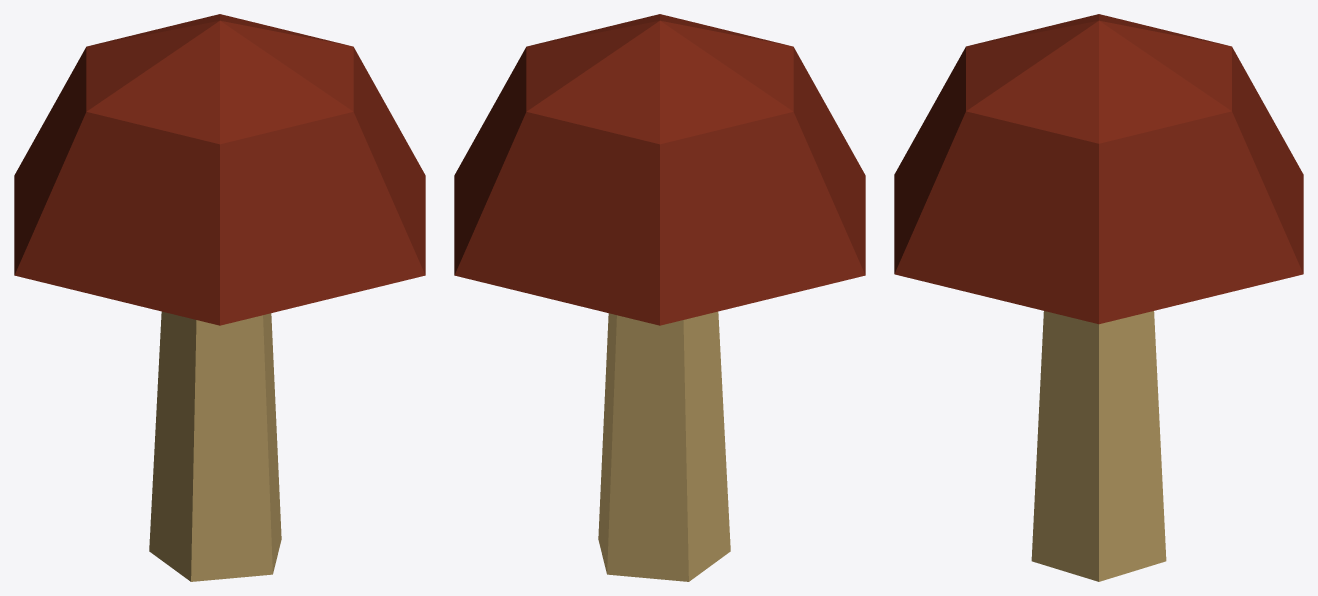
Rendered from Mushroom_Large_01.fbx.
3 views of the same model, side by side, from view 1: azimuth 30°, elevation 25°; view 2: azimuth 150°, elevation 25°; view 3: azimuth 270°, elevation 25° (orthographic).
Parts seen in each view (by area): view 1: Mushroom_Large_01_Mesh; view 2: Mushroom_Large_01_Mesh; view 3: Mushroom_Large_01_Mesh.
Boxes of the visible parts, x1,y1,x2,y2 form: Mushroom_Large_01_Mesh: (14, 14, 425, 581); Mushroom_Large_01_Mesh: (454, 14, 865, 581); Mushroom_Large_01_Mesh: (894, 14, 1303, 581).
Size of the model in its own units: 0.4 by 0.4964 by 0.3464.
1 material, 1 textured.
